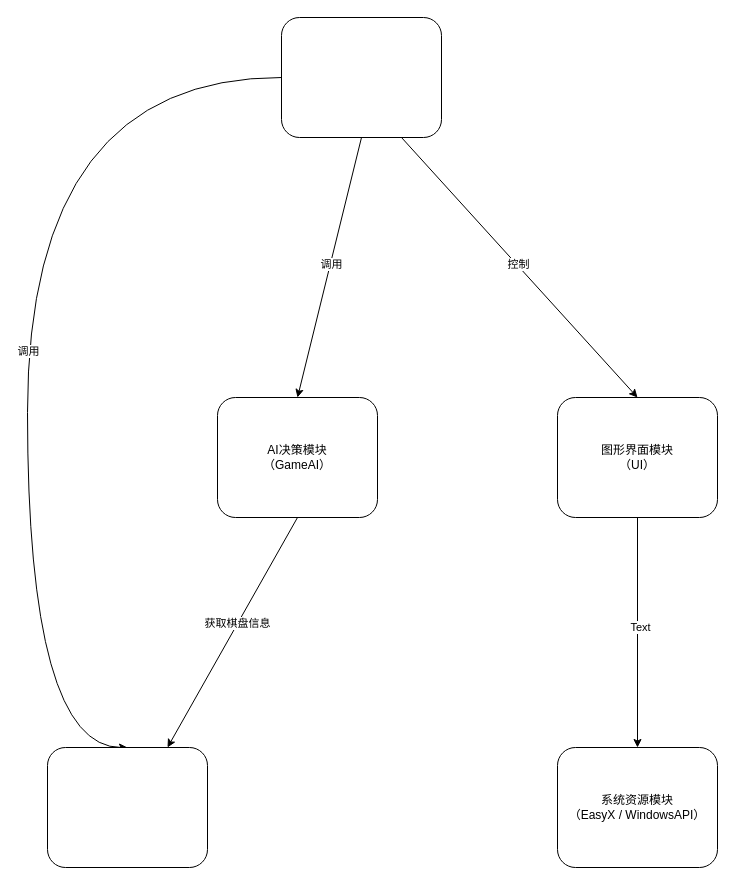
The diagram is 735 pixels wide and 885 high, and some of its shapes have lost their labels. Each missing label, with the centre of its shape:
主程序模块 （Main）: [361,77]
棋盘管理模块 （ChessBoard）: [127,807]
